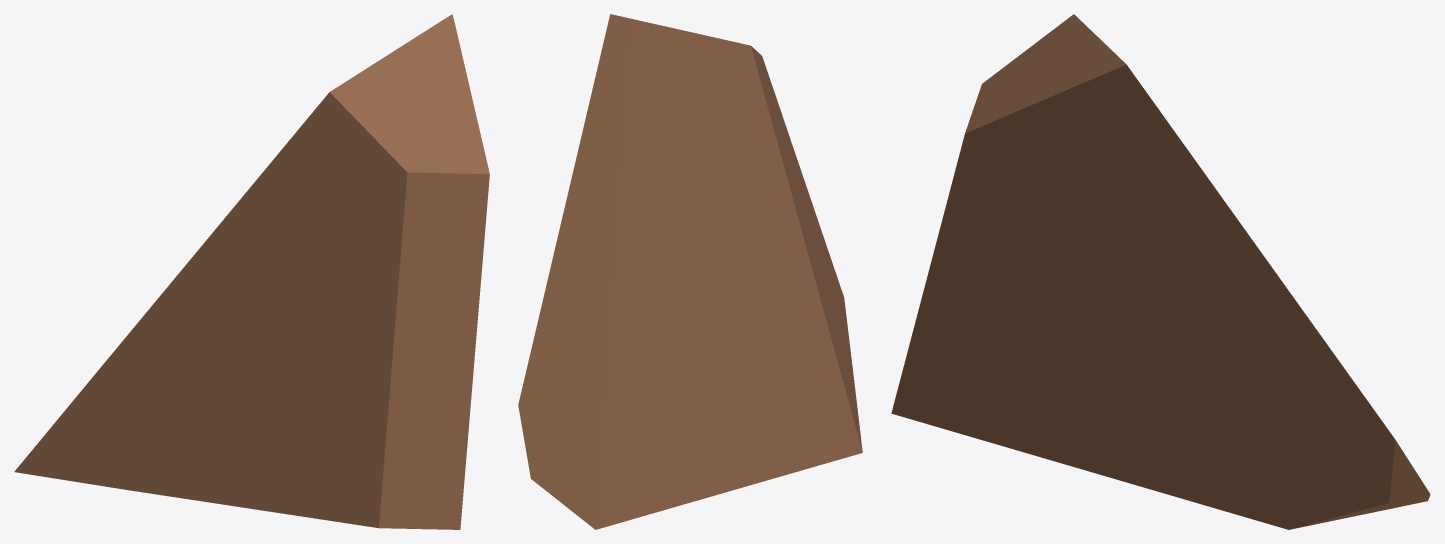
The model's file is WoodCellCube_003_cell_040.fbx.
The picture shows the model from 3 angles, left to right: view 1: azimuth 30°, elevation 25°; view 2: azimuth 150°, elevation 25°; view 3: azimuth 270°, elevation 25°; orthographic projection. The views are drawn at different scales.
Parts seen in each view (by area): view 1: WoodCellCube_003_cell_040; view 2: WoodCellCube_003_cell_040; view 3: WoodCellCube_003_cell_040.
Part boxes in pixels (box(x1,y1,x2,y2)): WoodCellCube_003_cell_040: box(14, 14, 489, 529); WoodCellCube_003_cell_040: box(518, 14, 862, 529); WoodCellCube_003_cell_040: box(891, 14, 1430, 529).
Size of the model in its own units: 0.2832 by 0.2905 by 0.2283.
Materials: 1 (1 with a texture image).
